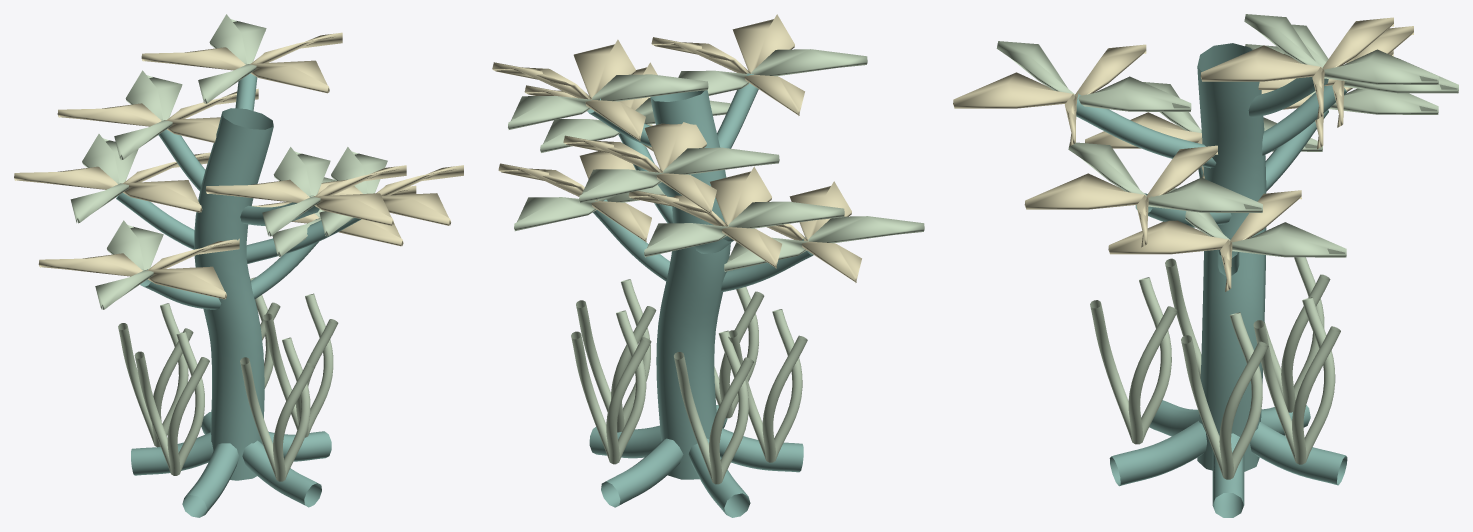
The model's file is bio_canopy_tree_09_near.glb.
3 views of the same model, side by side, from view 1: azimuth 30°, elevation 25°; view 2: azimuth 150°, elevation 25°; view 3: azimuth 270°, elevation 25° (orthographic). The views are drawn at different scales.
Visible parts, largest first — view 1: Buttressed trunk, Broad canopy leaf.015, Broad canopy leaf.010, Broad canopy leaf.020, Broad canopy leaf.005, Spiral filament.006, Spiral filament.012, Broad canopy leaf.030, Spiral filament, Spiral filament.003, Broad canopy leaf.031, Broad canopy leaf.016 (+8 smaller); view 2: Buttressed trunk, Broad canopy leaf.010, Broad canopy leaf.015, Broad canopy leaf.005, Broad canopy leaf.030, Spiral filament.009, Spiral filament.003, Broad canopy leaf.006, Broad canopy leaf.031, Broad canopy leaf.016, Spiral filament.012, Broad canopy leaf.021 (+8 smaller); view 3: Buttressed trunk, Spiral filament.006, Spiral filament, Spiral filament.009, Broad canopy leaf.015, Broad canopy leaf.025, Broad canopy leaf.010, Broad canopy leaf, Broad canopy leaf.016, Broad canopy leaf.026, Broad canopy leaf.011, Broad canopy leaf.001 (+7 smaller).
Boxes of the visible parts, <box> form: Buttressed trunk: <box>116,73,361,517</box>; Broad canopy leaf.015: <box>141,32,342,93</box>; Broad canopy leaf.010: <box>205,165,406,225</box>; Broad canopy leaf.020: <box>38,238,239,299</box>; Broad canopy leaf.005: <box>14,152,210,212</box>; Spiral filament.006: <box>240,337,315,481</box>; Spiral filament.012: <box>134,332,209,475</box>; Broad canopy leaf.030: <box>57,88,258,142</box>; Spiral filament: <box>263,293,338,437</box>; Spiral filament.003: <box>118,303,193,447</box>; Broad canopy leaf.031: <box>114,70,182,159</box>; Broad canopy leaf.016: <box>198,14,266,103</box>; Buttressed trunk: <box>587,73,813,517</box>; Broad canopy leaf.010: <box>651,14,804,115</box>; Broad canopy leaf.015: <box>492,39,645,141</box>; Broad canopy leaf.005: <box>628,166,781,268</box>; Broad canopy leaf.030: <box>563,122,716,214</box>; Spiral filament.009: <box>571,310,651,464</box>; Spiral filament.003: <box>674,330,753,484</box>; Broad canopy leaf.006: <box>644,201,844,257</box>; Broad canopy leaf.031: <box>579,147,779,203</box>; Broad canopy leaf.016: <box>508,74,708,129</box>; Spiral filament.012: <box>728,309,807,462</box>; Broad canopy leaf.021: <box>724,216,924,271</box>; Buttressed trunk: <box>1076,43,1347,517</box>; Spiral filament.006: <box>1090,277,1177,444</box>; Spiral filament: <box>1181,312,1268,479</box>; Spiral filament.009: <box>1253,297,1340,464</box>; Broad canopy leaf.015: <box>1200,17,1393,119</box>; Broad canopy leaf.025: <box>1024,145,1217,247</box>; Broad canopy leaf.010: <box>953,44,1146,146</box>; Broad canopy leaf: <box>1108,190,1301,291</box>; Broad canopy leaf.016: <box>1244,14,1438,84</box>; Broad canopy leaf.026: <box>1068,142,1262,212</box>; Broad canopy leaf.011: <box>996,41,1191,111</box>; Broad canopy leaf.001: <box>1167,188,1346,257</box>.
Bounding box in the file's own units: 2.97 × 2.99 × 3.05.
